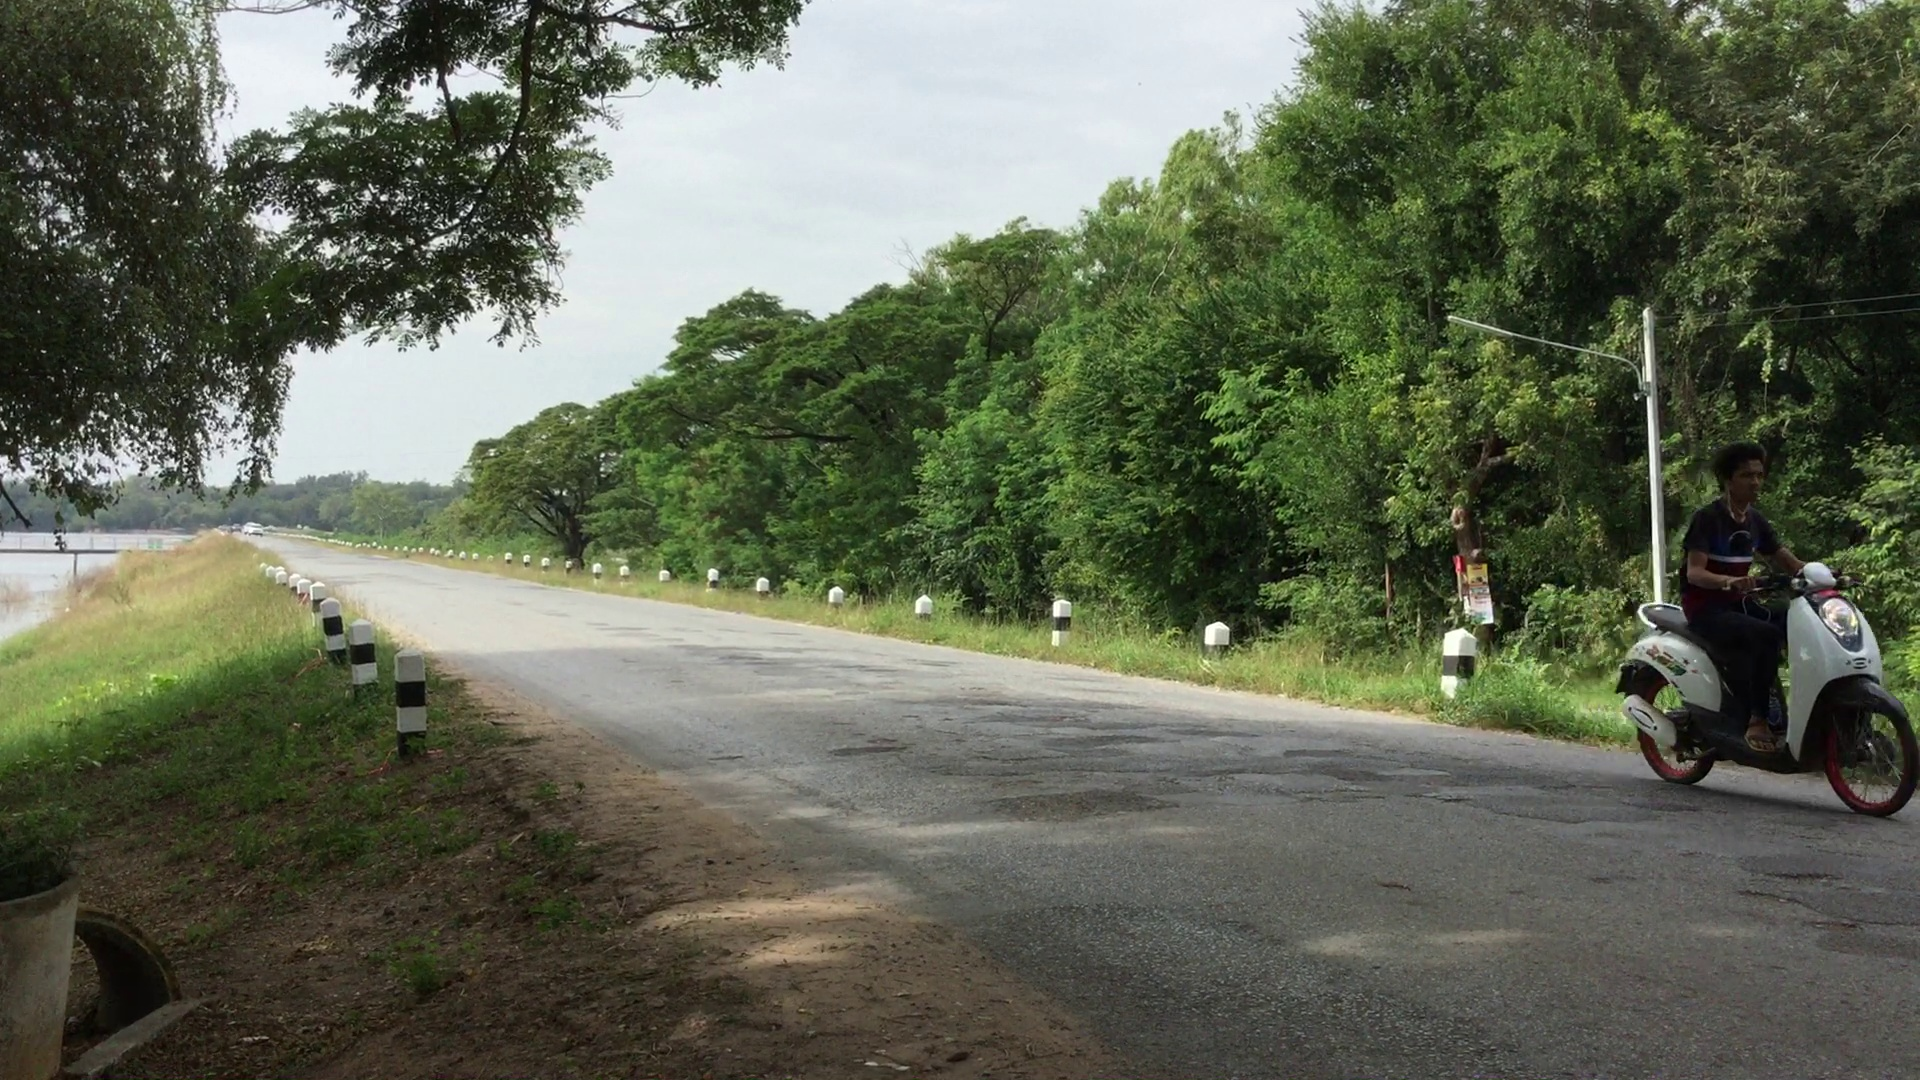person: (1622, 451, 1920, 819)
